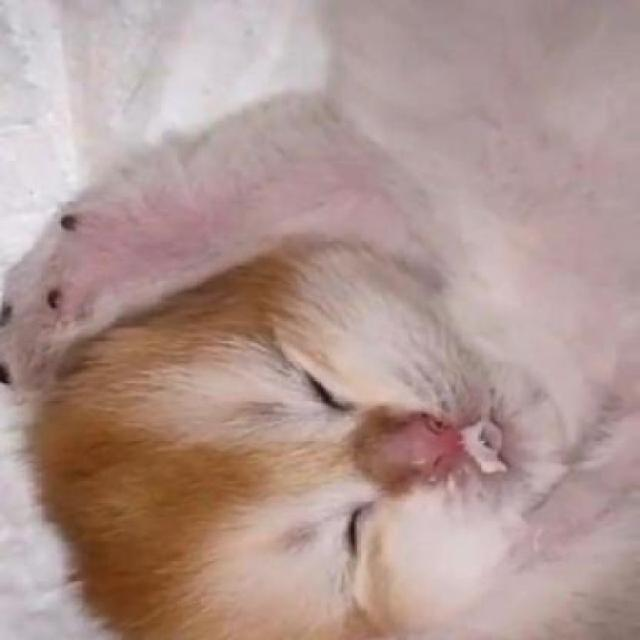cat: (35, 31, 640, 640)
